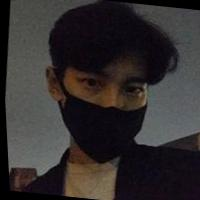WRONG: (47, 57, 154, 160)
